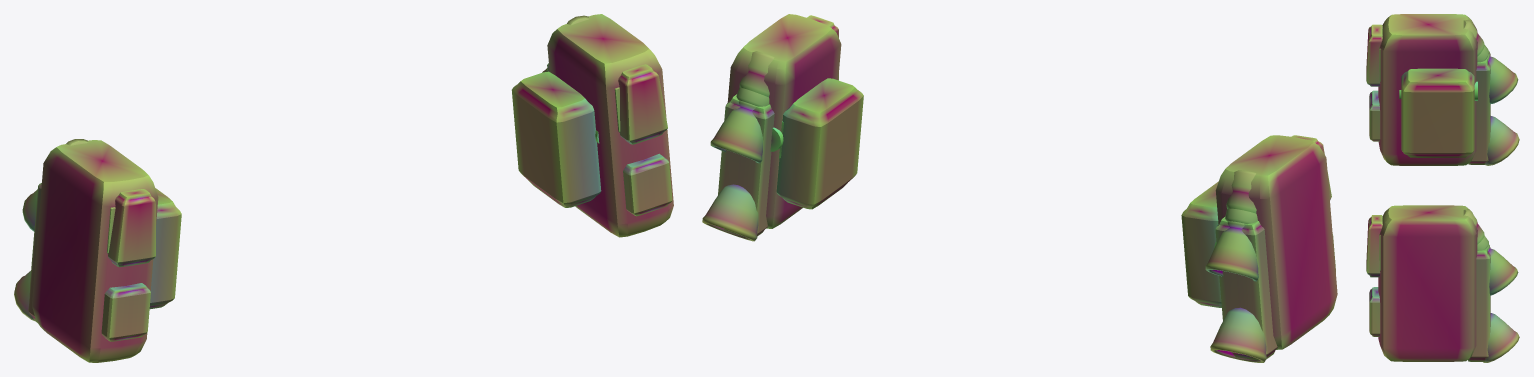
Rendered from llm_gen_leg_thrusters_113_327f2d.glb.
3 renders of one model, left to right at view 1: azimuth 30°, elevation 25°; view 2: azimuth 150°, elevation 25°; view 3: azimuth 270°, elevation 25°, orthographic. The views are drawn at different scales.
Visible parts, largest first — view 1: outer_shin_armor_0_wing_white_l, outer_shin_armor_0_wing_white_r, adapter_calf_clamp_r, knee_guard_blade_2_gold_l, knee_guard_blade_2_gold_r, adapter_calf_clamp_l, lower_shin_bumper_4_crimson_gloss_l, lower_shin_bumper_4_crimson_gloss_r, rear_thruster_manifold_dark_5_adapter_dark_l, rear_surge_bell_bot_7_vernier_bell_vernier_l; view 2: outer_shin_armor_0_wing_white_l, adapter_calf_clamp_r, outer_shin_armor_0_wing_white_r, adapter_calf_clamp_l, rear_thruster_manifold_dark_5_adapter_dark_l, rear_thruster_manifold_dark_5_adapter_dark_r, rear_surge_bell_bot_7_vernier_bell_vernier_r, rear_surge_bell_bot_7_vernier_bell_vernier_l, rear_surge_bell_top_6_vernier_bell_vernier_r, rear_surge_bell_top_6_vernier_bell_vernier_l, rear_surge_bell_top_6_vernier_bell_gimbal_collar_dark_r, rear_surge_bell_top_6_vernier_bell_gimbal_collar_dark_l; view 3: outer_shin_armor_0_wing_white_r, outer_shin_armor_0_wing_white_l, adapter_calf_clamp_l, rear_thruster_manifold_dark_5_adapter_dark_r, rear_thruster_manifold_dark_5_adapter_dark_l, rear_surge_bell_bot_7_vernier_bell_vernier_l, rear_surge_bell_bot_7_vernier_bell_vernier_r, rear_surge_bell_top_6_vernier_bell_vernier_l, rear_surge_bell_top_6_vernier_bell_vernier_r, knee_guard_blade_2_gold_l, knee_guard_blade_2_gold_r, lower_shin_bumper_4_crimson_gloss_l (+3 smaller).
Boxes of the visible parts, box(x1,y1,x2,y2) form: outer_shin_armor_0_wing_white_l: box(32, 140, 158, 362); outer_shin_armor_0_wing_white_r: box(547, 14, 673, 237); adapter_calf_clamp_r: box(511, 71, 601, 207); knee_guard_blade_2_gold_l: box(108, 189, 155, 267); knee_guard_blade_2_gold_r: box(618, 64, 667, 144); adapter_calf_clamp_l: box(149, 188, 181, 309); lower_shin_bumper_4_crimson_gloss_l: box(101, 283, 150, 341); lower_shin_bumper_4_crimson_gloss_r: box(623, 153, 672, 216); rear_thruster_manifold_dark_5_adapter_dark_l: box(28, 183, 41, 322); rear_surge_bell_bot_7_vernier_bell_vernier_l: box(14, 271, 34, 320); outer_shin_armor_0_wing_white_l: box(1215, 135, 1337, 349); adapter_calf_clamp_r: box(776, 78, 863, 209); outer_shin_armor_0_wing_white_r: box(727, 14, 841, 228); adapter_calf_clamp_l: box(1181, 181, 1221, 307); rear_thruster_manifold_dark_5_adapter_dark_l: box(1215, 217, 1277, 360); rear_thruster_manifold_dark_5_adapter_dark_r: box(718, 94, 774, 236); rear_surge_bell_bot_7_vernier_bell_vernier_r: box(702, 184, 758, 241); rear_surge_bell_bot_7_vernier_bell_vernier_l: box(1210, 307, 1266, 362); rear_surge_bell_top_6_vernier_bell_vernier_r: box(710, 100, 762, 163); rear_surge_bell_top_6_vernier_bell_vernier_l: box(1205, 221, 1258, 281); rear_surge_bell_top_6_vernier_bell_gimbal_collar_dark_r: box(739, 51, 774, 97); rear_surge_bell_top_6_vernier_bell_gimbal_collar_dark_l: box(1226, 170, 1256, 213); outer_shin_armor_0_wing_white_r: box(1378, 205, 1477, 361); outer_shin_armor_0_wing_white_l: box(1378, 14, 1477, 165); adapter_calf_clamp_l: box(1401, 68, 1474, 157); rear_thruster_manifold_dark_5_adapter_dark_r: box(1468, 247, 1490, 361); rear_thruster_manifold_dark_5_adapter_dark_l: box(1468, 51, 1490, 164); rear_surge_bell_bot_7_vernier_bell_vernier_l: box(1485, 116, 1519, 165); rear_surge_bell_bot_7_vernier_bell_vernier_r: box(1483, 313, 1519, 362); rear_surge_bell_top_6_vernier_bell_vernier_l: box(1487, 53, 1518, 104); rear_surge_bell_top_6_vernier_bell_vernier_r: box(1486, 244, 1518, 295); knee_guard_blade_2_gold_l: box(1366, 24, 1382, 86); knee_guard_blade_2_gold_r: box(1366, 215, 1382, 277); lower_shin_bumper_4_crimson_gloss_l: box(1369, 90, 1380, 141).
Bounding box in the file's own units: 78.09 × 23.8 × 22.94.
